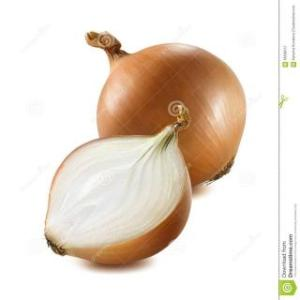onion: (84, 28, 246, 190), (44, 117, 194, 267)
